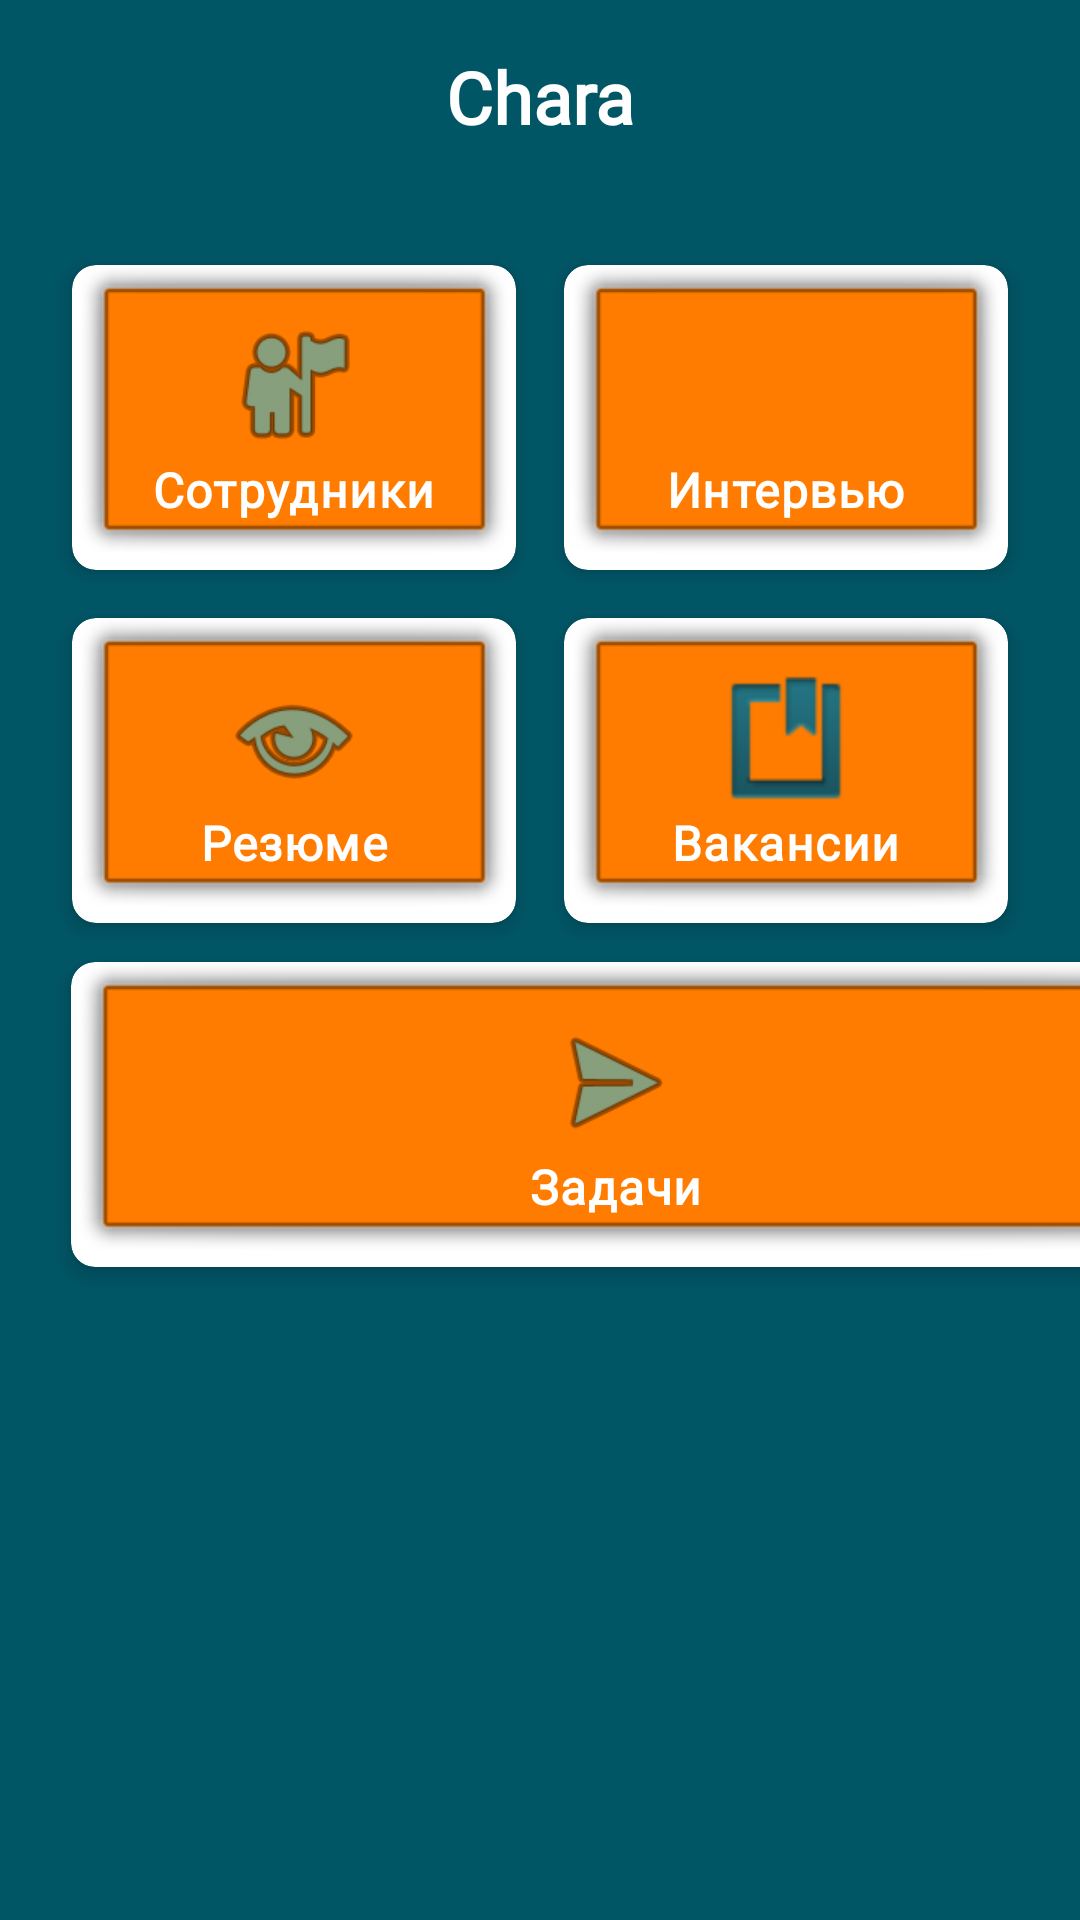

Icons on this 1080x1920 Android screen, each with its box as (x1, y1, x2, y2):
myplaces: (241, 331, 350, 439)
send: (570, 1037, 663, 1128)
view: (235, 705, 353, 779)
